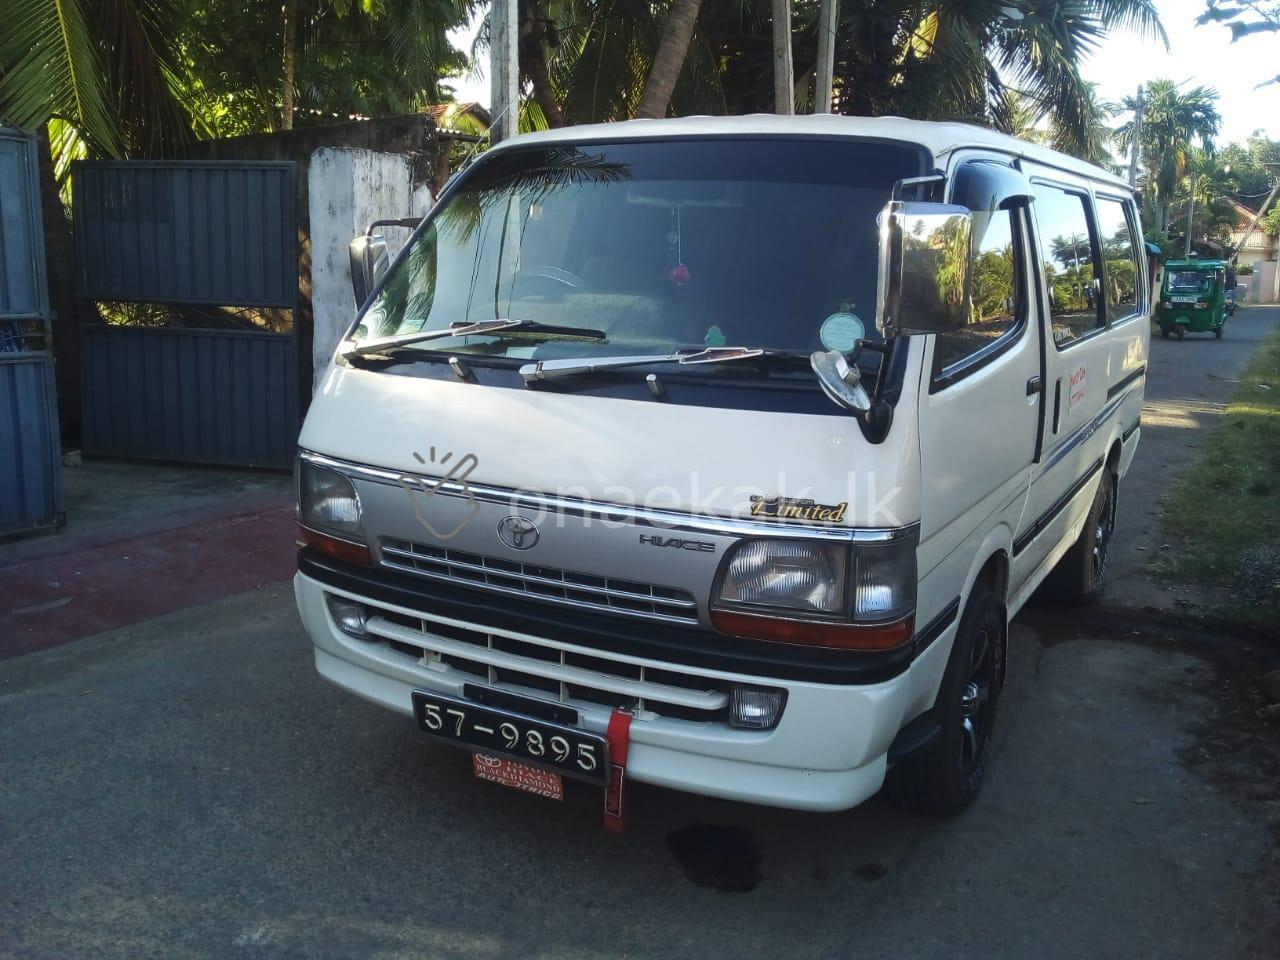threewheel: (1158, 258, 1229, 342)
van: (291, 112, 1149, 821)
